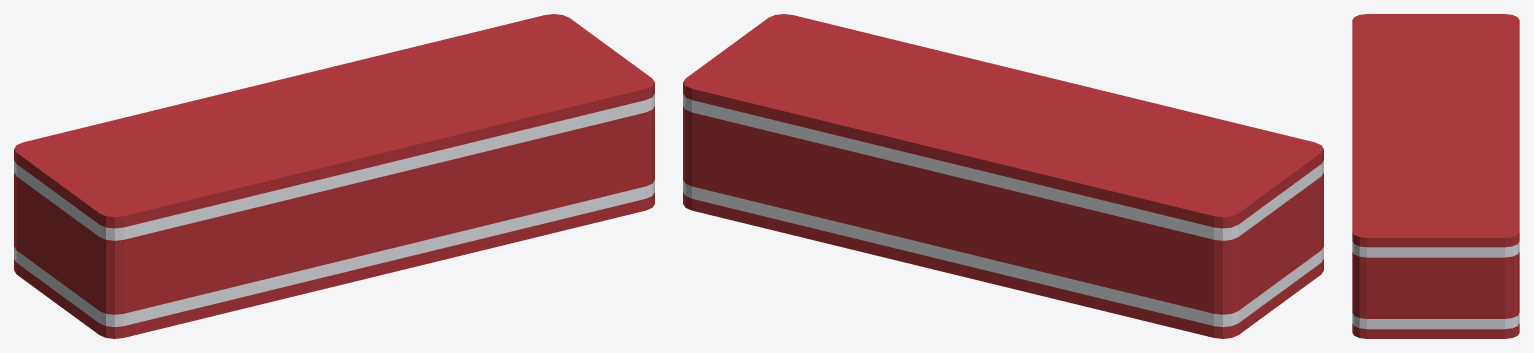
Rendered from Cinema_Counter.fbx.
3 views of the same model, side by side, from view 1: azimuth 30°, elevation 25°; view 2: azimuth 150°, elevation 25°; view 3: azimuth 270°, elevation 25° (orthographic). The views are drawn at different scales.
Parts seen in each view (by area): view 1: Cube.029; view 2: Cube.029; view 3: Cube.029.
Part boxes in pixels (x1=…): Cube.029: x1=14, y1=14, x2=654, y2=338; Cube.029: x1=683, y1=14, x2=1323, y2=338; Cube.029: x1=1352, y1=14, x2=1519, y2=338.
Size of the model in its own units: 1140 by 240 by 360.
